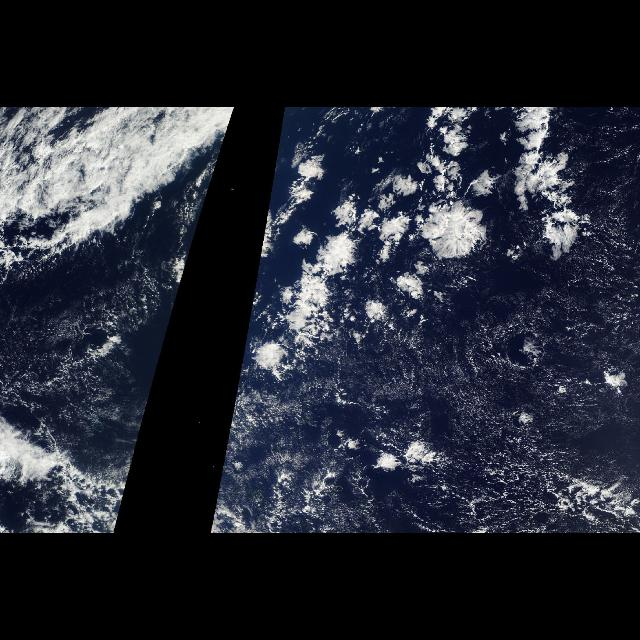Flower: (245, 107, 600, 385)
Gravel: (250, 371, 630, 531)
Sugar: (255, 337, 640, 533)
